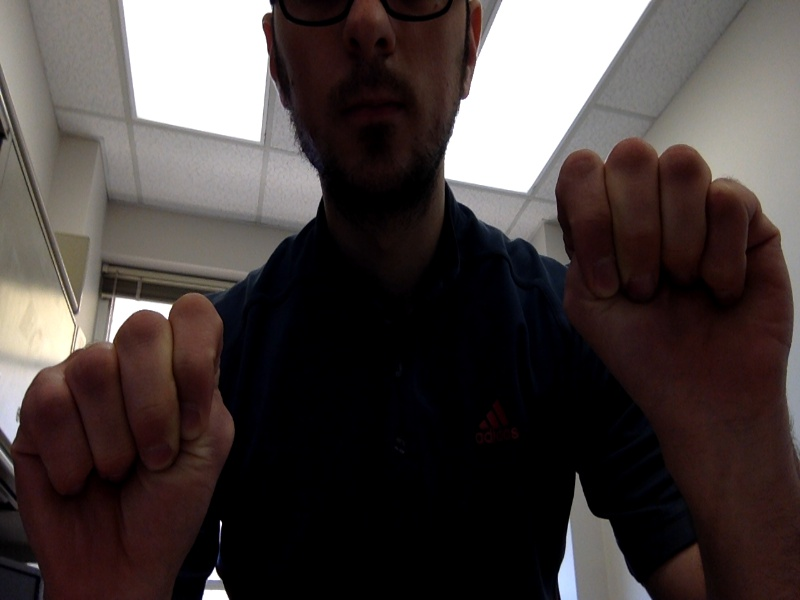0-hand: (13, 293, 235, 600), (556, 139, 795, 421)
